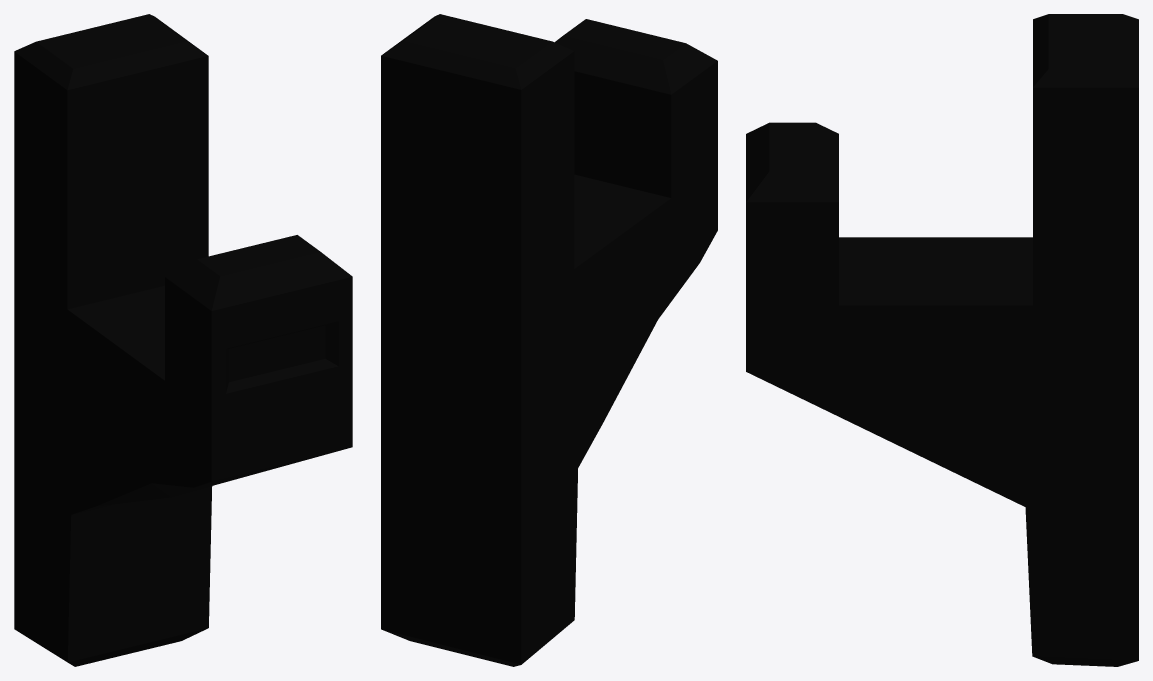
The model's file is cyber_SM_Prop_Weapon_Rack_03.gltf.
3 renders of one model, left to right at view 1: azimuth 30°, elevation 25°; view 2: azimuth 150°, elevation 25°; view 3: azimuth 270°, elevation 25°, orthographic.
Visible parts, largest first — view 1: SM_Prop_Weapon_Rack_03; view 2: SM_Prop_Weapon_Rack_03; view 3: SM_Prop_Weapon_Rack_03.
Part boxes in pixels (x1=…): SM_Prop_Weapon_Rack_03: x1=14, y1=14, x2=352, y2=666; SM_Prop_Weapon_Rack_03: x1=381, y1=14, x2=717, y2=666; SM_Prop_Weapon_Rack_03: x1=746, y1=14, x2=1138, y2=666.
Bounding box in the file's own units: 0.0852 × 0.3486 × 0.2064.
1 material, 1 textured.
